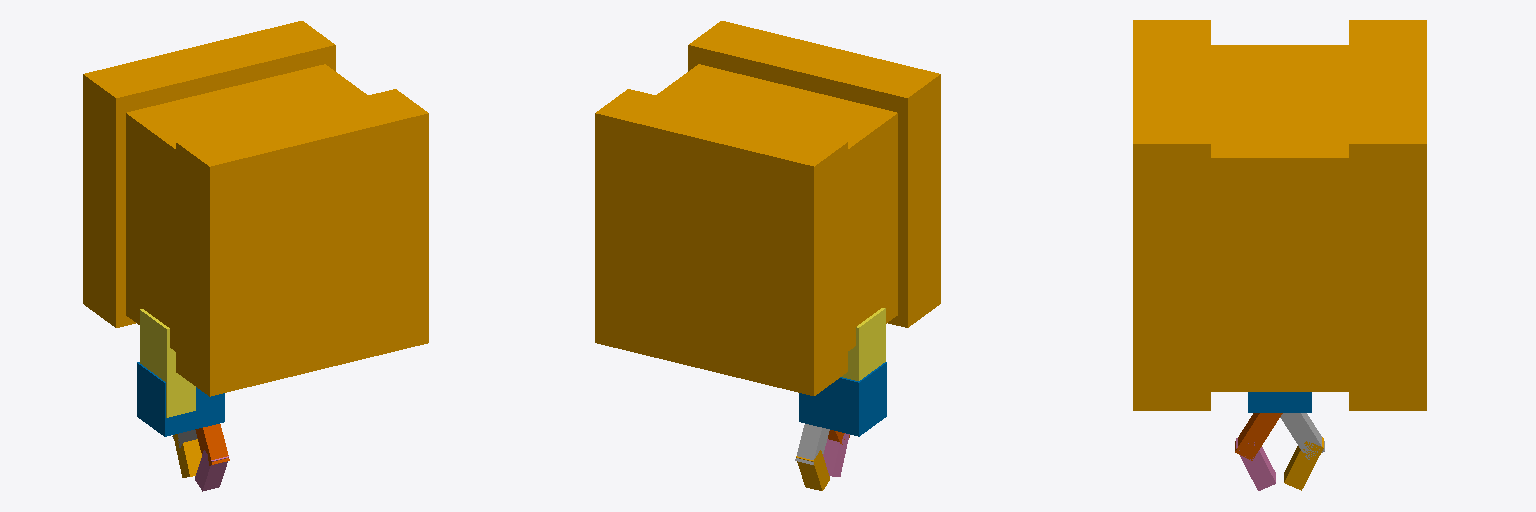
The robot description file, URDF, robot "astrobee":
<?xml version="1.0" ?>
<!-- =================================================================================== -->
<!-- |    This document was autogenerated by xacro from astrobee.xacro                 | -->
<!-- |    EDITING THIS FILE BY HAND IS NOT RECOMMENDED                                 | -->
<!-- =================================================================================== -->
<!-- Copyright (c) 2017, United States Government, as represented by the     -->
<!-- Administrator of the National Aeronautics and Space Administration.     -->
<!--                                                                         -->
<!-- All rights reserved.                                                    -->
<!--                                                                         -->
<!-- The Astrobee platform is licensed under the Apache License, Version 2.0 -->
<!-- (the "License"); you may not use this file except in compliance with    -->
<!-- the License. You may obtain a copy of the License at                    -->
<!--                                                                         -->
<!--     http://www.apache.org/licenses/LICENSE-2.0                          -->
<!--                                                                         -->
<!-- Unless required by applicable law or agreed to in writing, software     -->
<!-- distributed under the License is distributed on an "AS IS" BASIS,       -->
<!-- WITHOUT WARRANTIES OR CONDITIONS OF ANY KIND, either express or         -->
<!-- implied. See the License for the specific language governing            -->
<!-- permissions and limitations under the License.                          -->
<robot name="astrobee">
  <!-- BASE GEOMETRY -->
  <link name="honey_body">
    <self_collide>false</self_collide>
    <!-- body -->
    <visual name="body_visual">
      <origin rpy="0 0 0" xyz="-0.000794 0.000229 -0.003907"/>
      <geometry>
        <box size="0.290513 0.151942 0.281129"/>
      </geometry>
    </visual>
    <collision name="body_collision">
      <origin rpy="0 0 0" xyz="-0.000794 0.000229 -0.003907"/>
      <geometry>
        <box size="0.290513 0.151942 0.281129"/>
      </geometry>
    </collision>
    <!-- port pmc -->
    <visual name="pmc_port_visual">
      <origin rpy="0 0 0" xyz="0 -0.117546 0"/>
      <geometry>
        <box size="0.319199 0.083962 0.319588"/>
      </geometry>
    </visual>
    <collision name="pmc_port_collision">
      <origin rpy="0 0 0" xyz="0 -0.117546 0"/>
      <geometry>
        <box size="0.319199 0.083962 0.319588"/>
      </geometry>
    </collision>
    <!-- starboard pmc -->
    <visual name="pmc_stbd_visual">
      <origin rpy="0 0 0" xyz="0 0.117546 0"/>
      <geometry>
        <box size="0.319199 0.083962 0.319588"/>
      </geometry>
    </visual>
    <collision name="pmc_stbd_collision">
      <origin rpy="0 0 0" xyz="0 0.117546 0"/>
      <geometry>
        <box size="0.319199 0.083962 0.319588"/>
      </geometry>
    </collision>
  </link>
  <!-- This is a workaround for KDL -->
  <link name="honey_inertial_link">
    <self_collide>false</self_collide>
    <inertial>
      <mass value="9.0877"/>
      <origin xyz="0 0 0"/>
      <inertia ixx="0.1454" ixy="0.0" ixz="0.0" iyy="0.1366" iyz="0.0" izz="0.1594"/>
    </inertial>
  </link>
  <joint name="inertial_joint" type="fixed">
    <origin rpy="0 0 0" xyz="0 0 0"/>
    <parent link="honey_body"/>
    <child link="honey_inertial_link"/>
  </joint>
  <gazebo>
    <plugin filename="libgazebo_model_plugin_drag.so" name="drag_ros">
      &gt;
      
      <namespace>/honey/</namespace>
      <coefficient>1.05</coefficient>
      <!-- Drag coefficient -->
      <area>0.092903</area>
      <!-- Surface area     -->
      <density>1.225</density>
      <!-- Air density      -->
    </plugin>
  </gazebo>
  <gazebo>
    <plugin filename="libgazebo_model_plugin_pmc.so" name="pmc_ros">
      <namespace>/honey/</namespace>
      <rate>62.5</rate>
      <bypass_blower_model>false</bypass_blower_model>
    </plugin>
  </gazebo>
  <gazebo>
    <plugin filename="libgazebo_model_plugin_eps.so" name="eps_ros">
      &gt;
      
      <namespace>/honey/</namespace>
      <rate>10.0</rate>
      <!-- Rate at which dock state checked  -->
      <distance_near>0.04</distance_near>
      <!-- Threshold distance for magnetism  -->
      <distance_far>0.05</distance_far>
      <!-- Threshold distance for magnetism  -->
      <delay>5.0</delay>
      <!-- Delay between contact and docking -->
      <battery_top_left>true</battery_top_left>
      <battery_top_right>true</battery_top_right>
      <battery_bottom_left>false</battery_bottom_left>
      <battery_bottom_right>false</battery_bottom_right>
    </plugin>
  </gazebo>
  <gazebo>
    <plugin filename="libgazebo_model_plugin_truth.so" name="truth_ros">
      <namespace>/honey/</namespace>
      <rate>62.5</rate>
      <parent>world</parent>
      <child>truth</child>
      <tf>true</tf>
      <pose>true</pose>
      <twist>true</twist>
      <static>false</static>
    </plugin>
  </gazebo>
  <gazebo>
    <plugin filename="libgazebo_model_plugin_laser.so" name="laser_ros">
      <namespace>/honey/</namespace>
      <rate>10.0</rate>
      <range>5.0</range>
      <width>0.0025</width>
    </plugin>
  </gazebo>
  <gazebo>
    <plugin filename="libgazebo_model_plugin_flashlight.so" name="flashlight_front_ros">
      <namespace>/honey/</namespace>
      <plugin_name>flashlight_front</plugin_name>
      <plugin_frame>flashlight_front</plugin_frame>
      <rate>10.0</rate>
      <width>0.02</width>
      <height>0.02</height>
      <depth>0.03</depth>
    </plugin>
    <plugin filename="libgazebo_model_plugin_flashlight.so" name="flashlight_aft_ros">
      <namespace>/honey/</namespace>
      <plugin_name>flashlight_aft</plugin_name>
      <plugin_frame>flashlight_aft</plugin_frame>
      <rate>10.0</rate>
      <width>0.02</width>
      <height>0.02</height>
      <depth>0.03</depth>
    </plugin>
  </gazebo>
  <gazebo>
    <plugin filename="libgazebo_model_plugin_speed_cam.so" name="speed_cam_ros">
      <namespace>/honey/</namespace>
    </plugin>
  </gazebo>
  <gazebo>
    <plugin filename="libgazebo_model_plugin_signal_lights.so" name="signal_lights_ros">
      <namespace>/honey/</namespace>
    </plugin>
  </gazebo>
  <gazebo>
    <plugin filename="libgazebo_model_plugin_llp_disk_monitor.so" name="llp_disk_monitor">
      <namespace>/honey/</namespace>
    </plugin>
    <plugin filename="libgazebo_model_plugin_llp_cpu_mem_monitor.so" name="llp_cpu_mem_monitor">
      <namespace>/honey/</namespace>
    </plugin>
    <plugin filename="libgazebo_model_plugin_mlp_disk_monitor.so" name="mlp_disk_monitor">
      <namespace>/honey/</namespace>
    </plugin>
    <plugin filename="libgazebo_model_plugin_mlp_cpu_mem_monitor.so" name="mlp_cpu_mem_monitor">
      <namespace>/honey/</namespace>
    </plugin>
  </gazebo>
  <gazebo reference="honey_body">
    <sensor name="imu" type="imu">
      <pose>0 0 0 0 0 0</pose>
      <always_on>true</always_on>
      <update_rate>62.5</update_rate>
      <visualize>0</visualize>
      <plugin filename="libgazebo_sensor_plugin_imu.so" name="sensor_imu_ros">
        <namespace>/honey/</namespace>
      </plugin>
    </sensor>
  </gazebo>
  <gazebo reference="honey_body">
    <sensor name="nav_cam" type="wideanglecamera">
      <pose>0 0 0 0 0 0</pose>
      <always_on>true</always_on>
      <update_rate>0.0001</update_rate>
      <camera>
        <horizontal_fov>2.957216683909311</horizontal_fov>
        <image>
          <width>320</width>
          <height>240</height>
          <format>L8</format>
        </image>
        <clip>
          <near>0.1</near>
          <far>20</far>
        </clip>
        <distortion>
          <k1>0.993308</k1>
        </distortion>
      </camera>
      <plugin filename="libgazebo_sensor_plugin_nav_cam.so" name="nav_cam_ros">
        <namespace>/honey/</namespace>
      </plugin>
      <plugin filename="libgazebo_sensor_plugin_sparse_map.so" name="sparse_map_ros">
        <namespace>/honey/</namespace>
      </plugin>
      <plugin filename="libgazebo_sensor_plugin_optical_flow.so" name="optical_flow_ros">
        <namespace>/honey/</namespace>
      </plugin>
    </sensor>
  </gazebo>
  <gazebo reference="honey_body">
    <sensor name="dock_cam" type="wideanglecamera">
      <pose>0 0 0 0 0 0</pose>
      <always_on>true</always_on>
      <update_rate>0.0001</update_rate>
      <camera>
        <horizontal_fov>2.87507641955055</horizontal_fov>
        <image>
          <width>320</width>
          <height>240</height>
          <format>L8</format>
        </image>
        <clip>
          <near>0.1</near>
          <far>20</far>
        </clip>
        <distortion>
          <k1>1.0049199133284734</k1>
        </distortion>
      </camera>
      <plugin filename="libgazebo_sensor_plugin_dock_cam.so" name="dock_cam_ros">
        <namespace>/honey/</namespace>
      </plugin>
      <plugin filename="libgazebo_sensor_plugin_ar_tags.so" name="ar_tags_ros">
        <namespace>/honey/</namespace>
      </plugin>
    </sensor>
  </gazebo>
  <gazebo reference="honey_body">
    <sensor name="haz_cam" type="depth">
      <pose>0 0 0 0 0 0</pose>
      <always_on>true</always_on>
      <update_rate>1</update_rate>
      <camera>
        <horizontal_fov>1.0821</horizontal_fov>
        <!-- 62 degrees -->
        <image>
          <width>224</width>
          <height>171</height>
          <format>L8</format>
        </image>
        <clip>
          <near>0.2</near>
          <far>4</far>
        </clip>
        <depth_camera>
          <output>points</output>
        </depth_camera>
      </camera>
      <plugin filename="libgazebo_sensor_plugin_haz_cam.so" name="haz_cam_ros">
        <namespace>/honey/</namespace>
      </plugin>
    </sensor>
  </gazebo>
  <gazebo reference="honey_body">
    <sensor name="perch_cam" type="depth">
      <pose>0 0 0 0 0 0</pose>
      <always_on>true</always_on>
      <update_rate>1</update_rate>
      <camera>
        <horizontal_fov>1.0821</horizontal_fov>
        <!-- 62 degrees -->
        <image>
          <width>224</width>
          <height>171</height>
          <format>L8</format>
        </image>
        <clip>
          <near>0.2</near>
          <far>4</far>
        </clip>
        <depth_camera>
          <output>points</output>
        </depth_camera>
      </camera>
      <plugin filename="libgazebo_sensor_plugin_perch_cam.so" name="perch_cam_ros">
        <namespace>/honey/</namespace>
      </plugin>
    </sensor>
  </gazebo>
  <link name="honey_top_aft">
    <self_collide>false</self_collide>
    <inertial>
      <origin rpy="0 0 0" xyz="0 0 0"/>
      <mass value="0.3078"/>
      <inertia ixx="0.02705" ixy="0.0" ixz="0.0" iyy="0.02705" iyz="0.0" izz="0.02705"/>
    </inertial>
    <visual>
      <origin rpy="0 0 0" xyz="0 -0.038125 0"/>
      <geometry>
        <box size="0.090441 0.152400 0.076250"/>
      </geometry>
    </visual>
    <collision>
      <origin rpy="0 0 0" xyz="0 -0.038125 0"/>
      <geometry>
        <box size="0.090441 0.152400 0.076250"/>
      </geometry>
    </collision>
  </link>
  <joint name="top_aft" type="fixed">
    <origin rpy="0.0 3.1415 0.0" xyz="-0.01 0.0 -0.065"/>
    <parent link="honey_body"/>
    <child link="honey_top_aft"/>
  </joint>
  <link name="honey_top_aft_arm_proximal_link">
    <self_collide>false</self_collide>
    <inertial>
      <origin rpy="0 0 0" xyz="0 0 0"/>
      <mass value="0.1623"/>
      <inertia ixx="0.02705" ixy="0.0" ixz="0.0" iyy="0.02705" iyz="0.0" izz="0.02705"/>
    </inertial>
    <visual>
      <origin rpy="0 0 0" xyz="-0.049625 -0.0022 0"/>
      <geometry>
        <box size="0.123250 0.068000 0.042400"/>
      </geometry>
    </visual>
    <collision>
      <origin rpy="0 0 0" xyz="-0.049625 -0.0022 0"/>
      <geometry>
        <box size="0.123250 0.068000 0.042400"/>
      </geometry>
    </collision>
  </link>
  <joint name="top_aft_arm_proximal_joint" type="revolute">
    <origin rpy="0 1.57079632679 0" xyz="0.11945 0 0.065"/>
    <parent link="honey_top_aft"/>
    <child link="honey_top_aft_arm_proximal_link"/>
    <axis xyz="0 -1 0"/>
    <limit effort="1.0" lower="-2.0944" upper="1.57079" velocity="0.12"/>
  </joint>
  <link name="honey_top_aft_arm_distal_link">
    <self_collide>false</self_collide>
    <inertial>
      <origin rpy="0 0 0" xyz="0 0 0"/>
      <mass value="0.1033"/>
      <inertia ixx="0.002705" ixy="0.0" ixz="0.0" iyy="0.002705" iyz="0.0" izz="0.002705"/>
    </inertial>
    <visual>
      <origin rpy="0 0 0" xyz="0 0 -0.02"/>
      <geometry>
        <box size="0.075000 0.070000 0.087400"/>
      </geometry>
    </visual>
    <collision>
      <origin rpy="0 0 0" xyz="0 0 -0.02"/>
      <geometry>
        <box size="0.075000 0.070000 0.087400"/>
      </geometry>
    </collision>
  </link>
  <joint name="top_aft_arm_distal_joint" type="revolute">
    <origin rpy="0 0 0" xyz="-0.1 0 0"/>
    <parent link="honey_top_aft_arm_proximal_link"/>
    <child link="honey_top_aft_arm_distal_link"/>
    <axis xyz="0 0 1"/>
    <limit effort="1.0" lower="-1.57079" upper="1.57079" velocity="0.12"/>
  </joint>
  <link name="honey_top_aft_gripper_left_proximal_link">
    <self_collide>false</self_collide>
    <inertial>
      <origin rpy="0 0 0" xyz="0 0 0"/>
      <mass value="0.04"/>
      <inertia ixx="0.002705" ixy="0.0" ixz="0.0" iyy="0.002705" iyz="0.0" izz="0.002705"/>
    </inertial>
    <visual>
      <origin rpy="0 0 0" xyz="-0.025547 0 -0.000875"/>
      <geometry>
        <box size="0.067654 0.021750 0.025400"/>
      </geometry>
    </visual>
    <collision>
      <origin rpy="0 0 0" xyz="-0.025547 0 -0.000875"/>
      <geometry>
        <box size="0.067654 0.021750 0.025400"/>
      </geometry>
    </collision>
  </link>
  <joint name="top_aft_gripper_left_proximal_joint" type="revolute">
    <origin rpy="0 0 0" xyz="-0.039 -0.010002 -0.0497"/>
    <parent link="honey_top_aft_arm_distal_link"/>
    <child link="honey_top_aft_gripper_left_proximal_link"/>
    <axis xyz="0 0 1"/>
    <limit effort="0.1" lower="0.349066" upper="0.698132" velocity="0.12"/>
  </joint>
  <link name="honey_top_aft_gripper_left_distal_link">
    <self_collide>false</self_collide>
    <inertial>
      <origin rpy="0 0 0" xyz="0 0 0"/>
      <mass value="0.0116026396896178"/>
      <inertia ixx="0.002705" ixy="0.0" ixz="0.0" iyy="0.002705" iyz="0.0" izz="0.002705"/>
    </inertial>
    <visual>
      <origin rpy="0 0 0" xyz="-0.021524 0 -0.000875"/>
      <geometry>
        <box size="0.056953 0.021750 0.025400"/>
      </geometry>
    </visual>
    <collision>
      <origin rpy="0 0 0" xyz="-0.021524 0 -0.000875"/>
      <geometry>
        <box size="0.056953 0.021750 0.025400"/>
      </geometry>
    </collision>
  </link>
  <joint name="top_aft_gripper_left_distal_joint" type="revolute">
    <origin rpy="0 0 0" xyz="-0.05 0 0"/>
    <parent link="honey_top_aft_gripper_left_proximal_link"/>
    <child link="honey_top_aft_gripper_left_distal_link"/>
    <axis xyz="0 0 1"/>
    <limit effort="0.1" lower="-1.22173" upper="-0.69813" velocity="0.12"/>
  </joint>
  <link name="honey_top_aft_gripper_right_proximal_link">
    <self_collide>false</self_collide>
    <inertial>
      <origin rpy="0 0 0" xyz="0 0 0"/>
      <mass value="0.04"/>
      <inertia ixx="0.002705" ixy="0.0" ixz="0.0" iyy="0.002705" iyz="0.0" izz="0.002705"/>
    </inertial>
    <visual>
      <origin rpy="0 0 0" xyz="-0.025547 0 0.000875"/>
      <geometry>
        <box size="0.067654 0.021750 0.025400"/>
      </geometry>
    </visual>
    <collision>
      <origin rpy="0 0 0" xyz="-0.025547 0 0.000875"/>
      <geometry>
        <box size="0.067654 0.021750 0.025400"/>
      </geometry>
    </collision>
  </link>
  <joint name="top_aft_gripper_right_proximal_joint" type="revolute">
    <origin rpy="0 0 0" xyz="-0.039 0.010002 -0.0497"/>
    <parent link="honey_top_aft_arm_distal_link"/>
    <child link="honey_top_aft_gripper_right_proximal_link"/>
    <axis xyz="0 0 1"/>
    <limit effort="0.1" lower="-0.698132" upper="-0.349066" velocity="0.12"/>
  </joint>
  <link name="honey_top_aft_gripper_right_distal_link">
    <self_collide>false</self_collide>
    <inertial>
      <origin rpy="0 0 0" xyz="0 0 0"/>
      <mass value="0.02285"/>
      <inertia ixx="0.002705" ixy="0.0" ixz="0.0" iyy="0.002705" iyz="0.0" izz="0.002705"/>
    </inertial>
    <visual>
      <origin rpy="0 0 0" xyz="-0.021512 0 0.000875"/>
      <geometry>
        <box size="0.056894 0.021750 0.025400"/>
      </geometry>
    </visual>
    <collision>
      <origin rpy="0 0 0" xyz="-0.021512 0 0.000875"/>
      <geometry>
        <box size="0.056894 0.021750 0.025400"/>
      </geometry>
    </collision>
  </link>
  <joint name="top_aft_gripper_right_distal_joint" type="revolute">
    <origin rpy="0 0 0" xyz="-0.05 0 0"/>
    <parent link="honey_top_aft_gripper_right_proximal_link"/>
    <child link="honey_top_aft_gripper_right_distal_link"/>
    <axis xyz="0 0 1"/>
    <limit effort="0.1" lower="0.69813" upper="1.22173" velocity="0.12"/>
  </joint>
  <gazebo>
    <plugin filename="libgazebo_model_plugin_perching_arm.so" name="top_aft_perching_arm_ros">
      &gt;
        
      <namespace>/honey/</namespace>
      <rate>10.0</rate>
      <bay>top_aft</bay>
      <proximal>1.57079632679</proximal>
      <distal>0</distal>
      <gripper>0</gripper>
    </plugin>
  </gazebo>
</robot>

--- Render facts (derived) ---
3 views of the same robot in one strip: view 1: azimuth 30°, elevation 25°; view 2: azimuth 150°, elevation 25°; view 3: azimuth 270°, elevation 25° (orthographic).
Model astrobee with 9 links and 8 joints (6 revolute, 2 fixed), rooted at honey_body, posed all joints at 0 but 4 set to mid-range because 0 is outside their limits (top_aft_gripper_left_proximal_joint = 0.5236, top_aft_gripper_left_distal_joint = -0.9599, top_aft_gripper_right_proximal_joint = -0.5236, top_aft_gripper_right_distal_joint = 0.9599).
Links seen in each view (by area): view 1: honey_body, honey_top_aft_arm_distal_link, honey_top_aft_arm_proximal_link, honey_top_aft_gripper_left_proximal_link, honey_top_aft_gripper_left_distal_link, honey_top_aft_gripper_right_distal_link; view 2: honey_body, honey_top_aft_arm_distal_link, honey_top_aft_arm_proximal_link, honey_top_aft_gripper_right_proximal_link, honey_top_aft_gripper_right_distal_link, honey_top_aft_gripper_left_distal_link; view 3: honey_body, honey_top_aft_arm_distal_link, honey_top_aft_gripper_left_proximal_link, honey_top_aft_gripper_right_distal_link, honey_top_aft_gripper_right_proximal_link, honey_top_aft_gripper_left_distal_link.
Boxes of the visible links, x1,y1,x2,y2 form: honey_body: (83, 21, 428, 396); honey_top_aft_arm_distal_link: (137, 362, 224, 436); honey_top_aft_arm_proximal_link: (140, 309, 195, 417); honey_top_aft_gripper_left_proximal_link: (195, 424, 229, 465); honey_top_aft_gripper_left_distal_link: (195, 450, 228, 491); honey_top_aft_gripper_right_distal_link: (173, 434, 201, 477); honey_body: (595, 21, 940, 395); honey_top_aft_arm_distal_link: (799, 362, 886, 436); honey_top_aft_arm_proximal_link: (842, 308, 885, 380); honey_top_aft_gripper_right_proximal_link: (795, 424, 829, 464); honey_top_aft_gripper_right_distal_link: (796, 450, 829, 490); honey_top_aft_gripper_left_distal_link: (823, 433, 849, 476); honey_body: (1133, 20, 1426, 410); honey_top_aft_arm_distal_link: (1248, 392, 1311, 412); honey_top_aft_gripper_left_proximal_link: (1235, 413, 1282, 460); honey_top_aft_gripper_right_distal_link: (1284, 437, 1323, 490); honey_top_aft_gripper_right_proximal_link: (1280, 413, 1324, 459); honey_top_aft_gripper_left_distal_link: (1236, 438, 1275, 490).
Bounding box of the posed robot: 0.3192 × 0.3191 × 0.522 m (x, y, z).
Geometry: primitives only (box / cylinder / sphere), no mesh files.